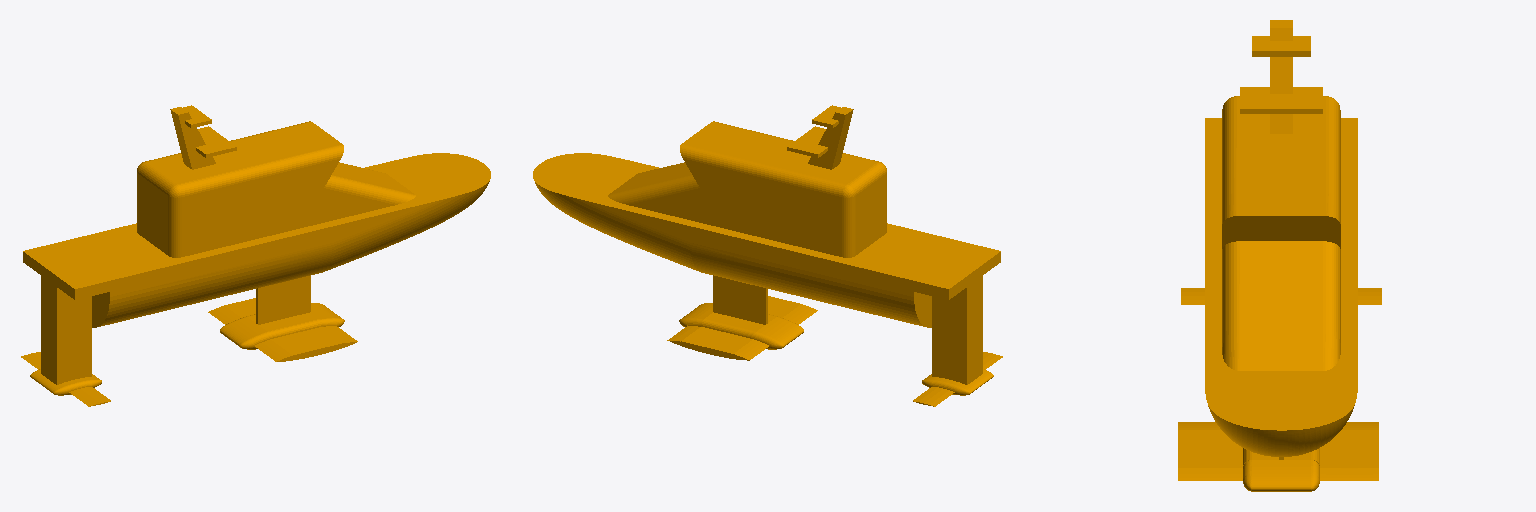
robot.urdf — hydrofoil:
<?xml version="1.0"?>
<robot name="hydrofoil">
    <link name="base_link">
        <inertial>
            <!-- Must coincide with the collision box's actual center
                 (matches its <origin> below), not the link origin: a
                 mismatch here means the physics engine treats the center
                 of mass as ~7m away from where the collision geometry
                 (and any contact/torque it generates) actually is,
                 which caused severe tumbling/instability under sustained
                 maneuvering in testing. -->
            <origin xyz="-6.15 0 -3.375" rpy="0 0 0"/>
            <mass value="11700"/>
            <inertia ixx="26256.75" ixy="0" ixz="0" iyy="157062.75" iyz="0" izz="173881.5"/>
        </inertial>
        <visual>
            <origin xyz="-6.15 0 -3.375" rpy="0 0 0"/>
            <geometry>
                <mesh filename="package://hydrofoil_usv_description/models/hydrofoil_vessel/meshes/ef12.obj"/>
            </geometry>
        </visual>
        <collision>
            <origin xyz="-6.15 0 -3.375" rpy="0 0 0"/>
            <geometry>
                <box size="12.5 4.7 2.2"/>
            </geometry>
        </collision>
    </link>

    <gazebo reference="base_link">
        <!-- VelocityControl is purely kinematic and only overrides velocity
             on command; gravity still acts between updates with nothing
             (no buoyancy/hydrodynamics plugin) to counter it, so the hull
             sinks over time. Disable gravity on this link since motion is
             meant to be fully defined by cmd_vel here. -->
        <gravity>false</gravity>
    </gazebo>

    <gazebo>
        <static>false</static>
        <!-- No <topic> override: the default (/model/<model_name>/cmd_vel,
             i.e. /model/hydrofoil/cmd_vel here) is what the ros_gz_bridge
             config in config/ros_gz_bridge.yaml publishes to. An explicit
             <topic> here sets the *literal* topic name rather than a
             relative suffix, which desyncs it from the bridge. -->
        <plugin filename="gz-sim-velocity-control-system" name="gz::sim::systems::VelocityControl">
        </plugin>
        <plugin filename="gz-sim-odometry-publisher-system" name="gz::sim::systems::OdometryPublisher">
            <odom_frame>odom</odom_frame>
            <robot_base_frame>base_link</robot_base_frame>
            <odom_publish_frequency>50</odom_publish_frequency>
            <dimensions>3</dimensions>
        </plugin>
    </gazebo>
</robot>

--- Render facts (derived) ---
3 views of the same robot in one strip: view 1: azimuth 30°, elevation 25°; view 2: azimuth 150°, elevation 25°; view 3: azimuth 270°, elevation 25° (orthographic).
Robot: hydrofoil — 1 links, 0 joints (none); root link base_link; default pose: all joints at 0.
Links seen in each view (by area): view 1: base_link; view 2: base_link; view 3: base_link.
Boxes of the visible links, x1,y1,x2,y2 form: base_link: (21, 105, 490, 406); base_link: (533, 105, 1002, 406); base_link: (1178, 20, 1381, 491).
Size in the robot's own frame: 12.7 by 3.45 by 6.85 metres.
Meshes: 1 distinct files referenced, 1 mesh visuals loaded (1 OBJ).
